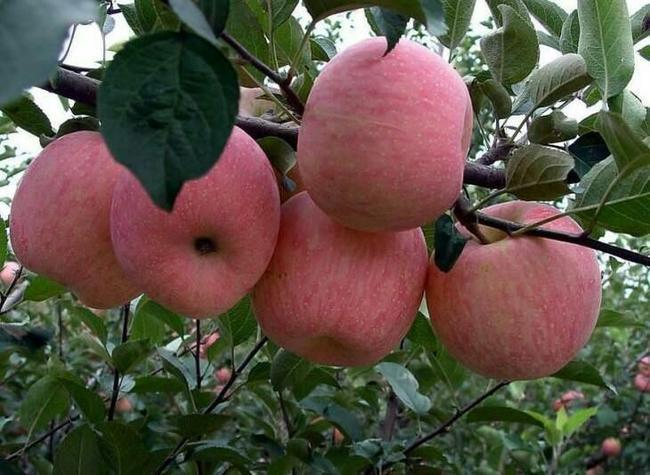apple: (293, 42, 475, 231), (107, 116, 278, 315), (422, 200, 605, 381), (252, 190, 432, 361), (9, 128, 142, 311)
